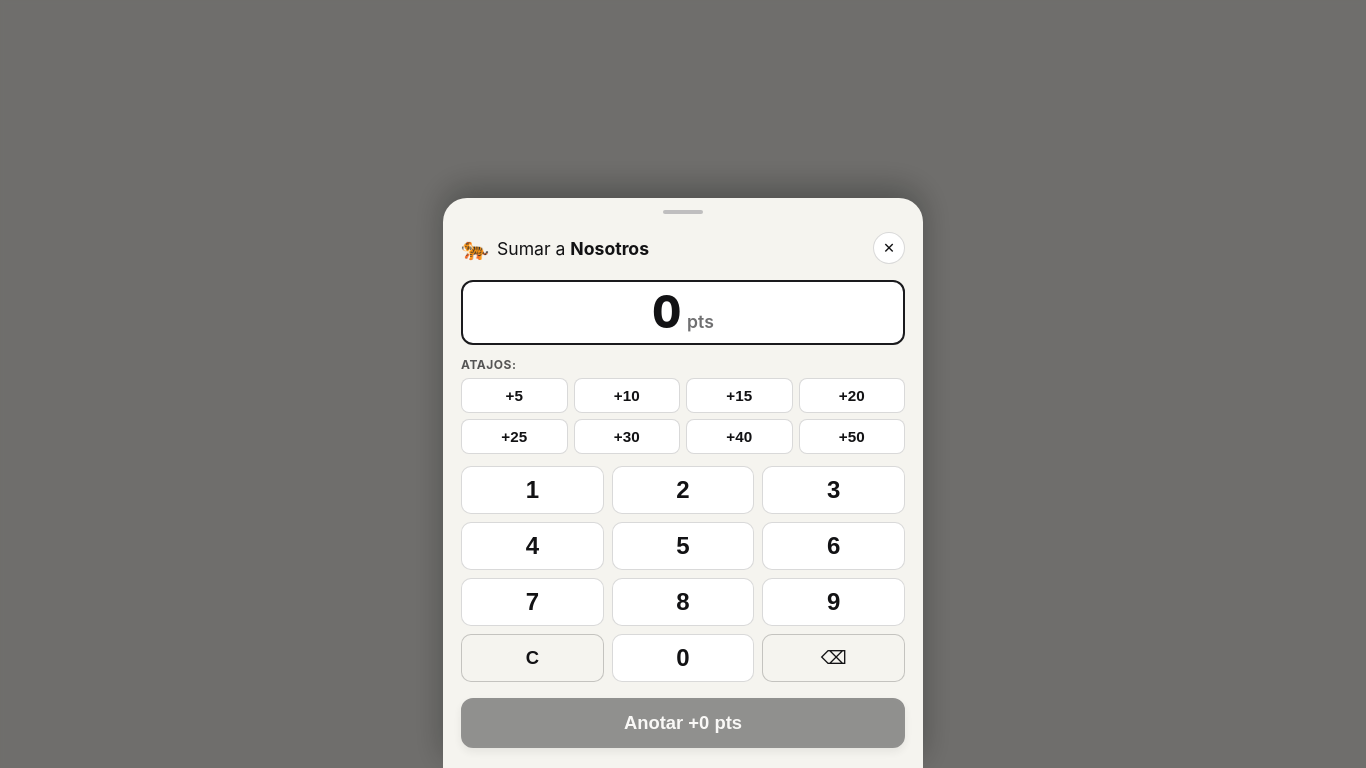
Test: ScoreInputDrawer › should handle backspace and clear buttons
Click the button "4" at (532, 546), box top-left (461, 522), bottom-right (604, 570)
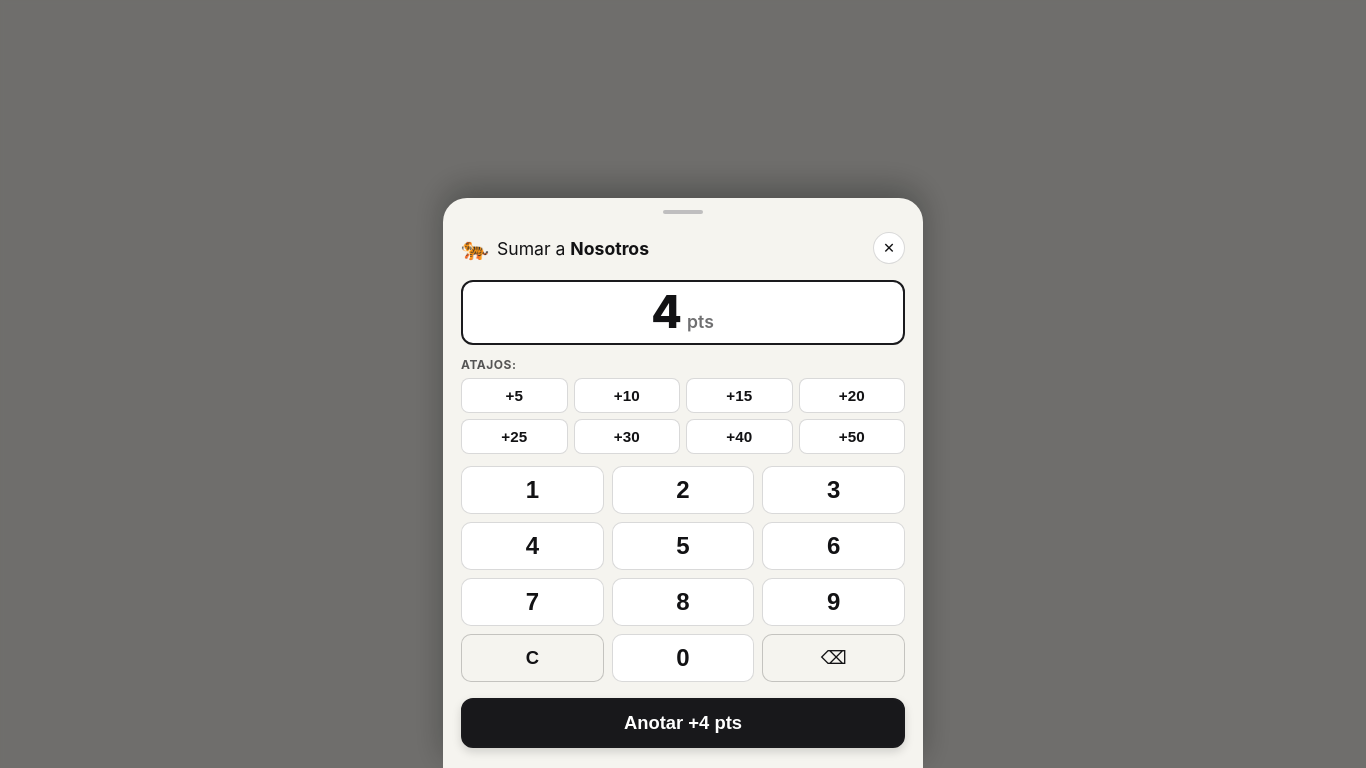
Click the button "5" at (683, 546), box top-left (612, 522), bottom-right (754, 570)
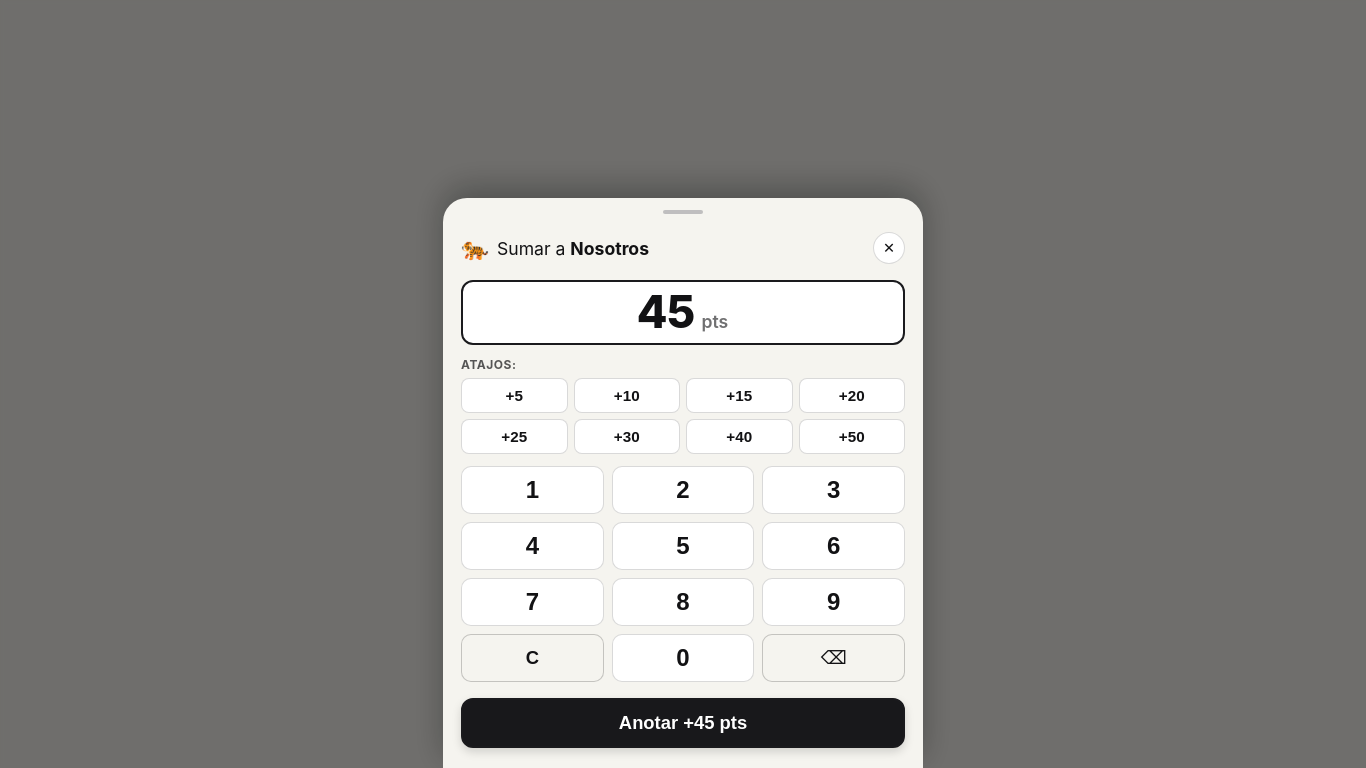
Now the button "Anotar +45 pts" is shown, box top-left (461, 698), bottom-right (905, 748)
Click the button named "Borrar" at (834, 658), box top-left (762, 634), bottom-right (905, 682)
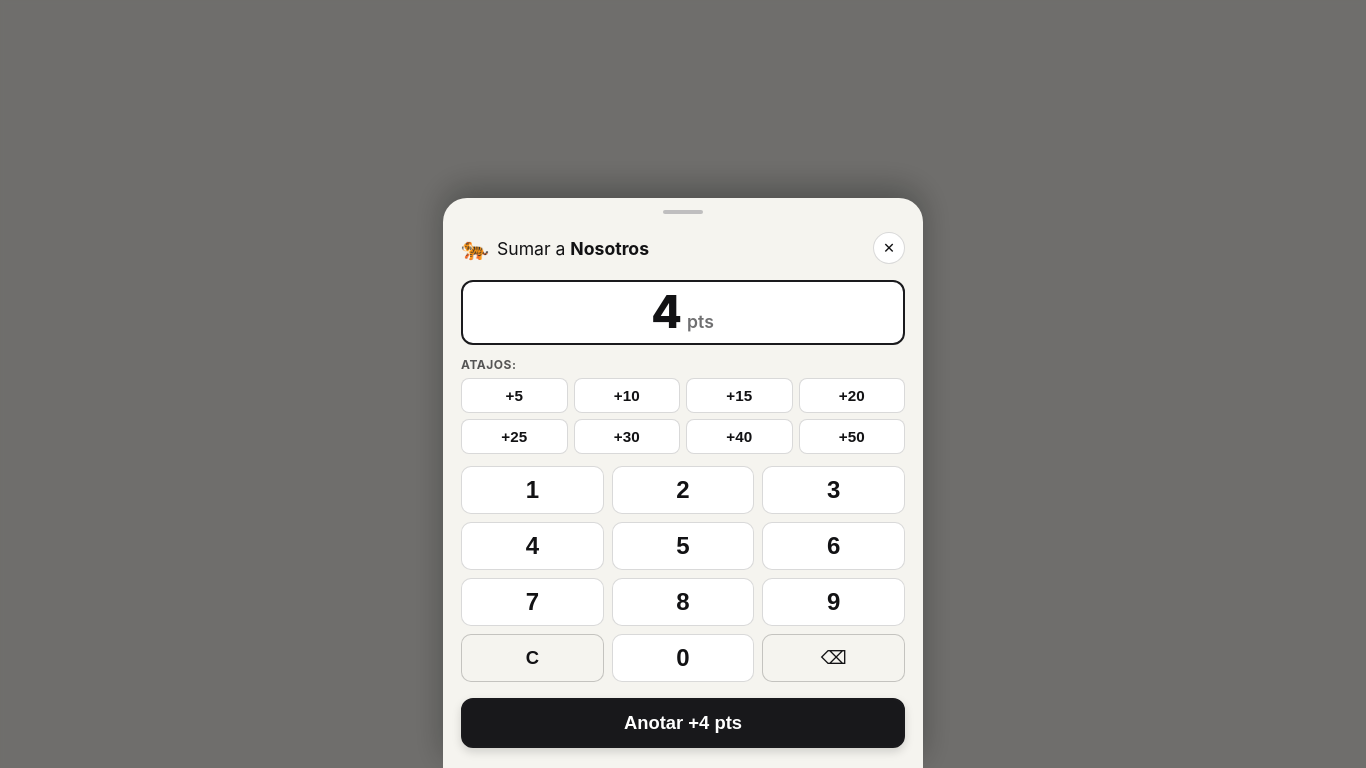
Now the button "Anotar +4 pts" is shown, box top-left (461, 698), bottom-right (905, 748)
Click the button "C" at (532, 658), box top-left (461, 634), bottom-right (604, 682)
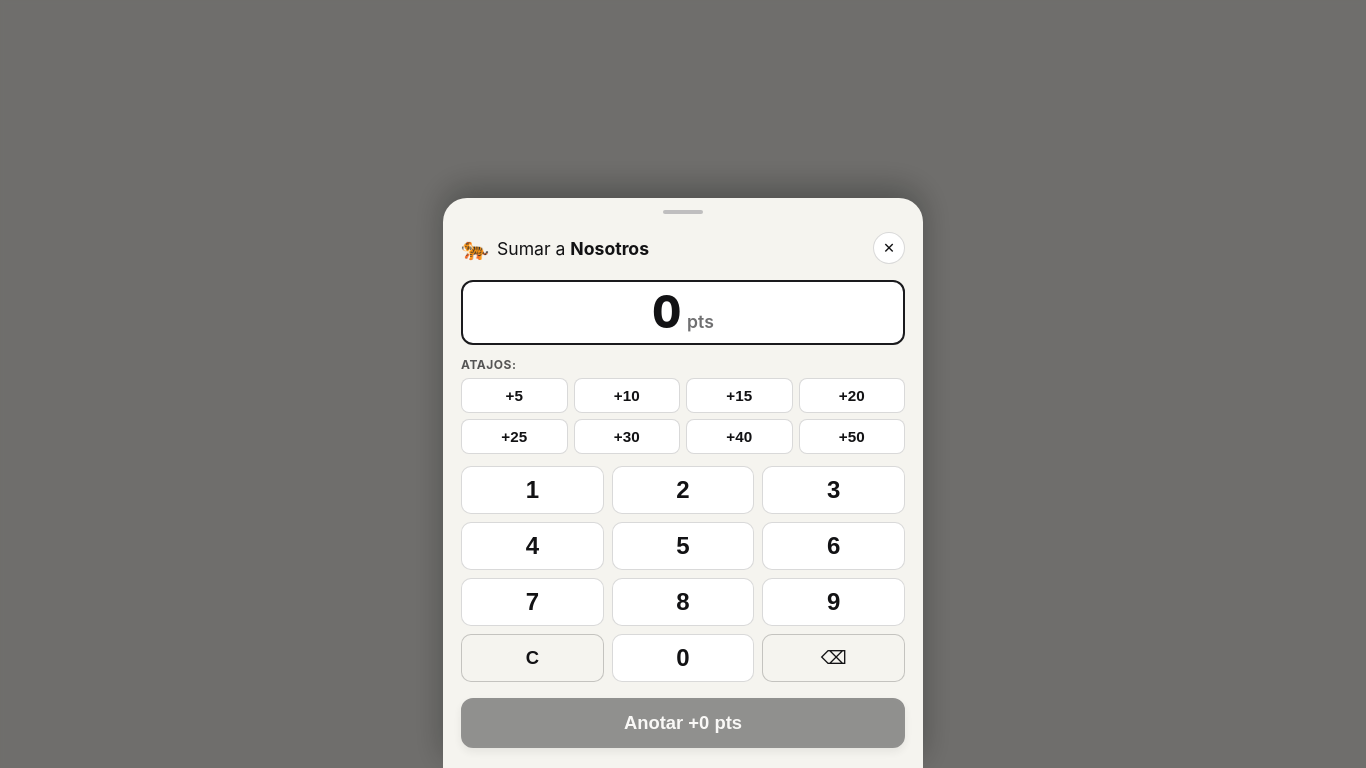
Now the button "Anotar +0 pts" is disabled, box top-left (461, 698), bottom-right (905, 748)
